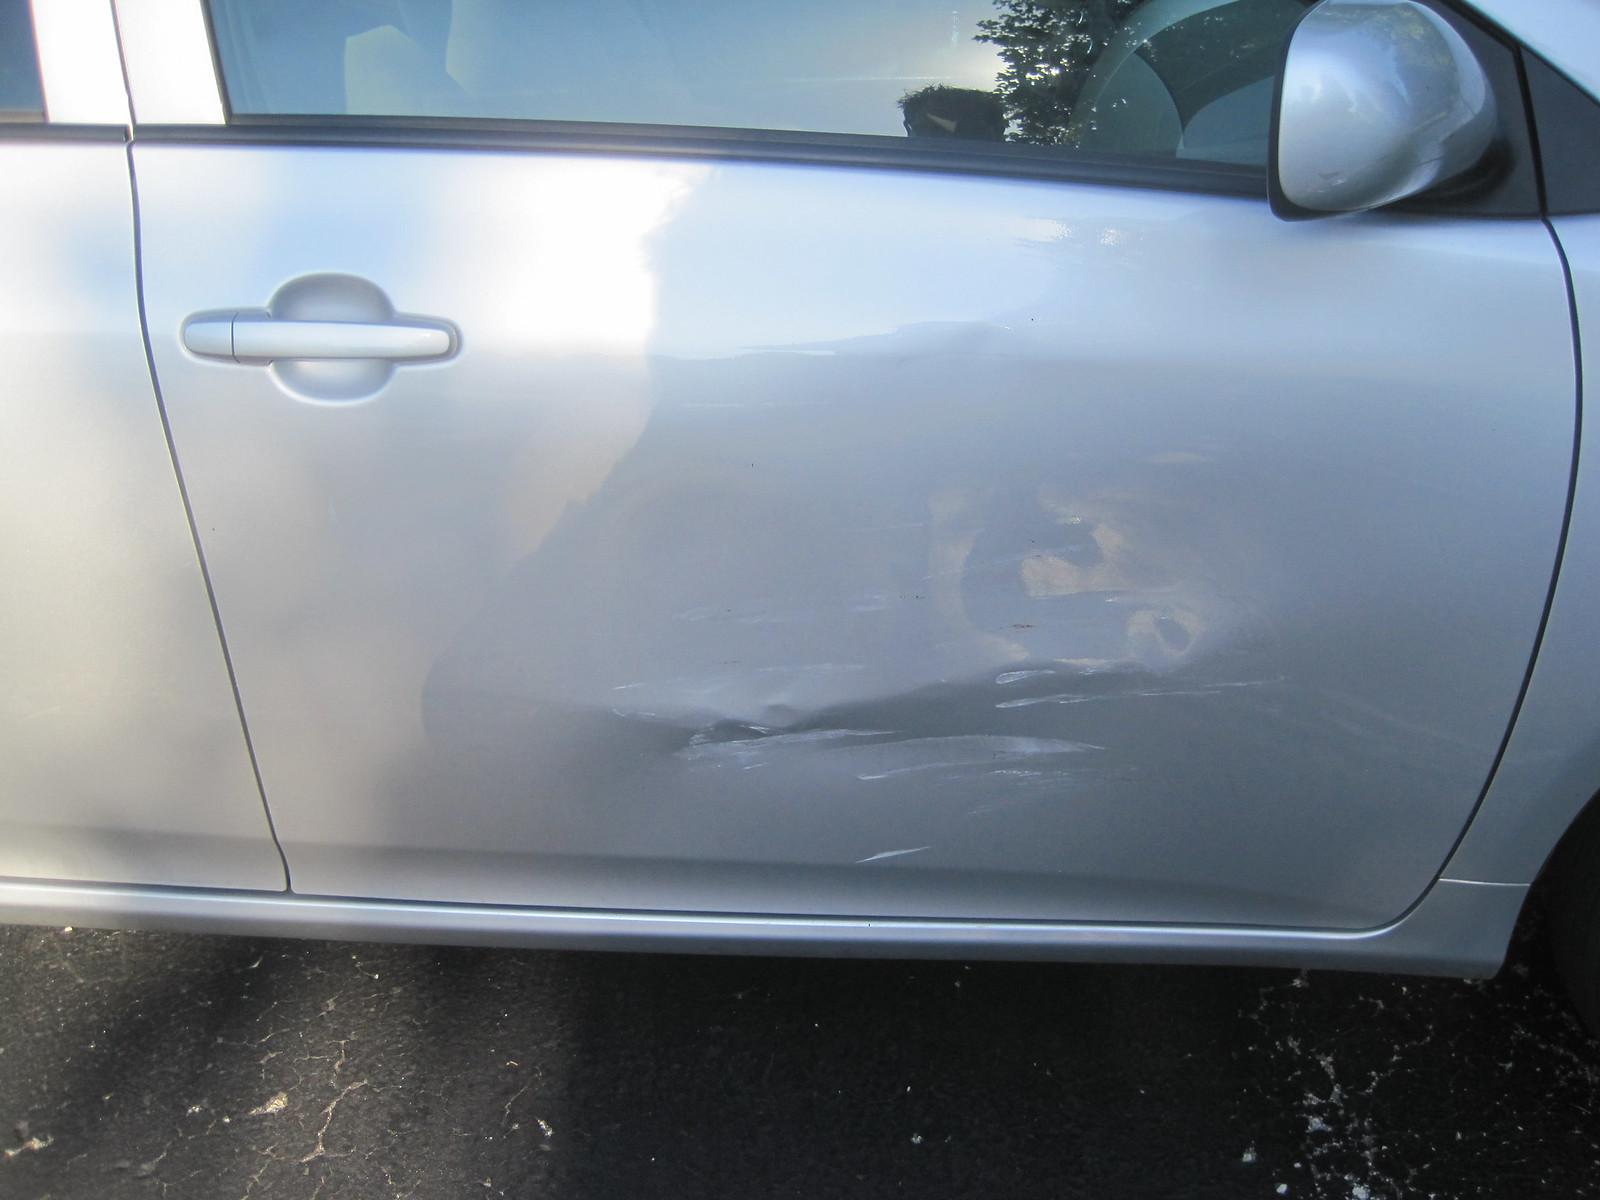doorouter-dent: (141, 137, 1470, 961)
